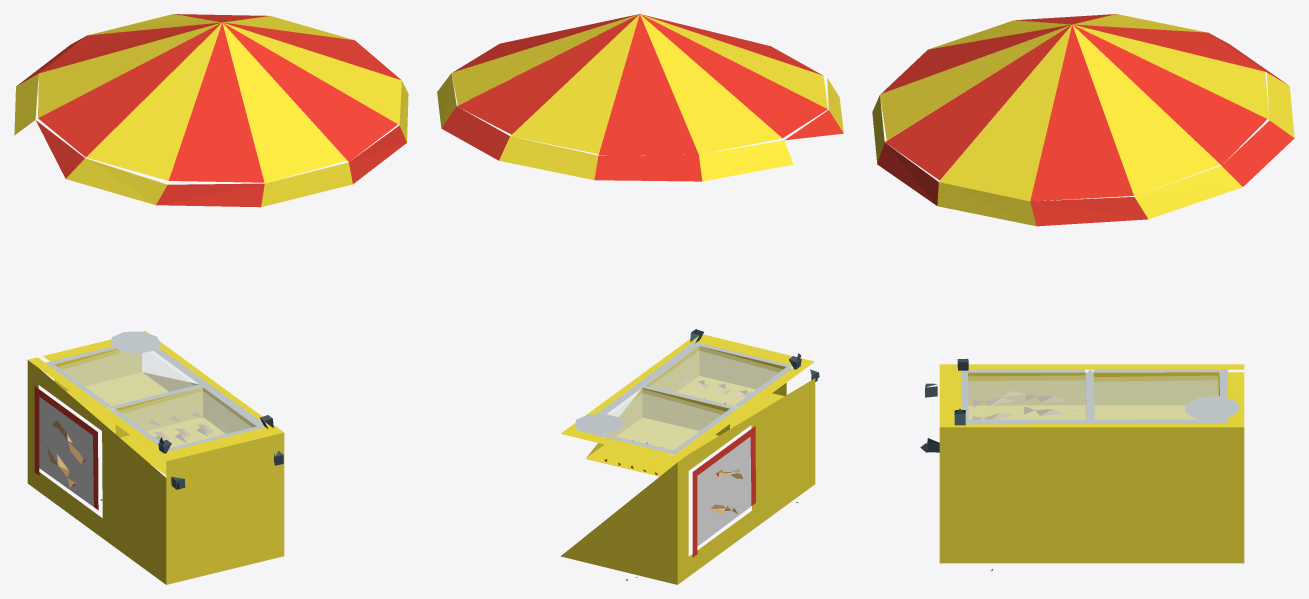
Rendered from hotdog-cart.glb.
The picture shows the model from 3 angles, left to right: view 1: azimuth 30°, elevation 25°; view 2: azimuth 150°, elevation 25°; view 3: azimuth 270°, elevation 25°; orthographic projection. The views are drawn at different scales.
Parts seen in each view (by area): view 1: Node; view 2: Node; view 3: Node.
Part boxes in pixels (x1,y1,x2,y2): Node: [14, 14, 408, 584]; Node: [437, 14, 843, 584]; Node: [872, 14, 1294, 571].
Size of the model in its own units: 1.66 by 2.3 by 1.58.
